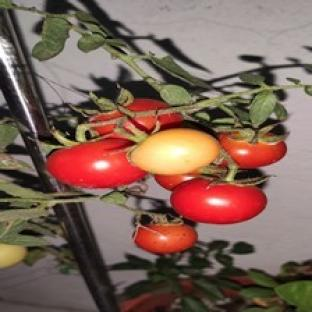Tomato: (46, 138, 146, 189), (170, 179, 267, 224), (130, 129, 220, 175), (219, 133, 286, 168), (134, 225, 197, 253), (123, 113, 182, 133), (154, 170, 200, 190), (0, 244, 27, 268)
